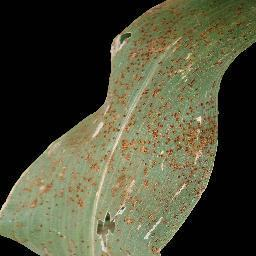Corn_Common_Rust: (107, 0, 225, 162), (8, 96, 107, 256), (107, 162, 216, 256), (225, 0, 256, 71)
